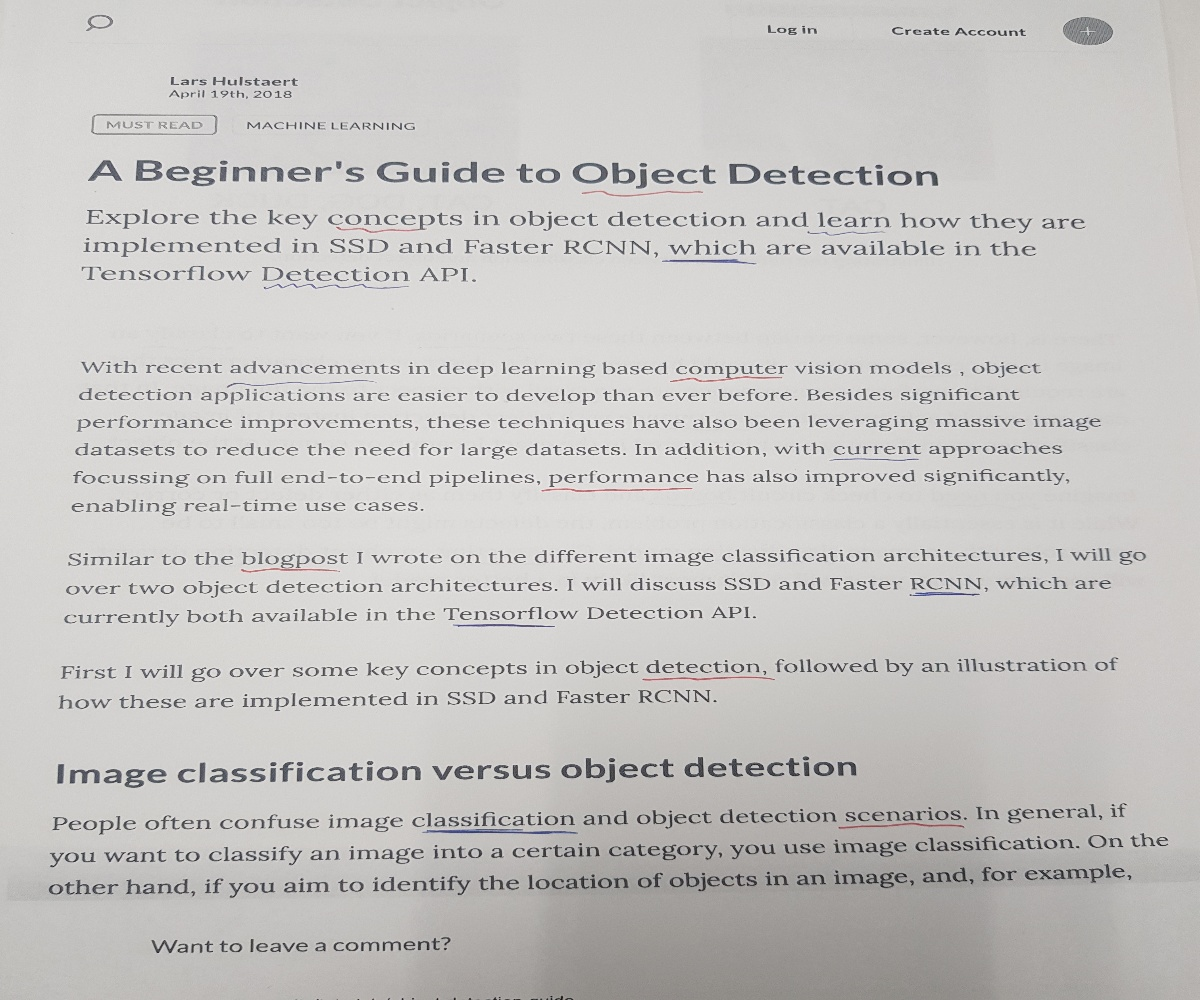underline: (420, 825, 578, 838), (538, 483, 694, 496), (224, 376, 377, 389), (637, 671, 774, 685), (261, 282, 412, 294), (579, 187, 708, 199), (668, 374, 787, 387), (835, 821, 967, 832), (331, 222, 430, 236), (450, 621, 556, 633), (237, 564, 342, 576), (829, 454, 923, 466), (803, 227, 886, 240), (657, 257, 757, 267), (906, 588, 982, 600)
